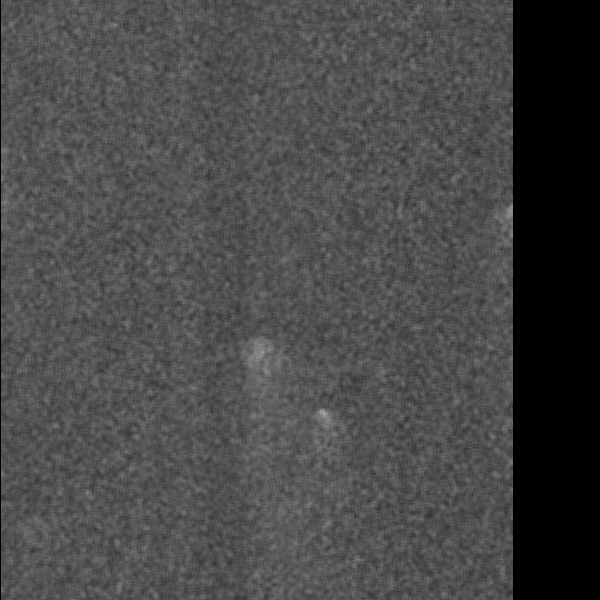spark: (240, 336, 277, 376), (313, 403, 331, 436)
